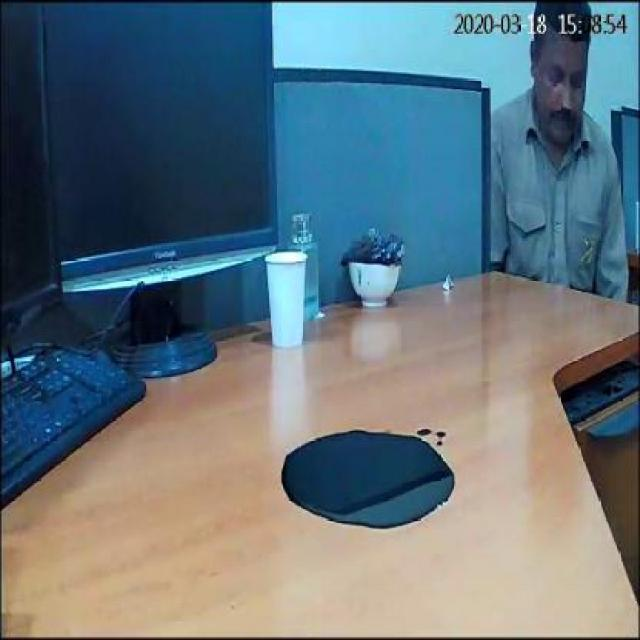spill: (280, 426, 454, 528)
